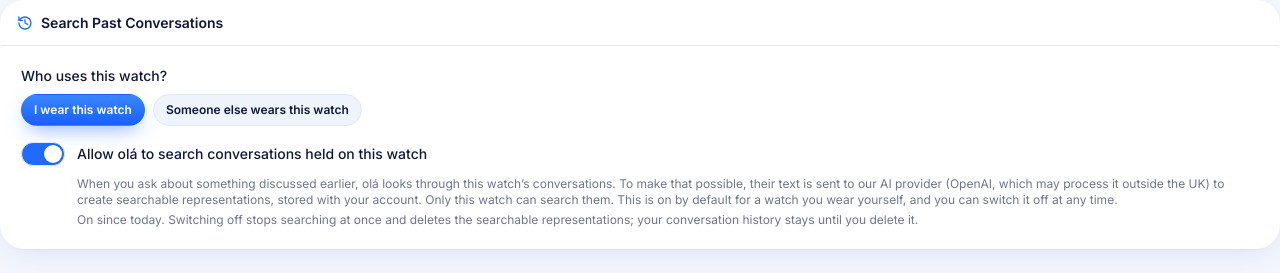
Test: Search Past Conversations (per watch) › switching off says the conversations stay
The width and height of the screenshot is (1280, 273).
Expected: the text "your conversation history stays" shows "stops searching at once", [77,212,918,227]
Click the switch at (43, 154), box [21,142,65,166]
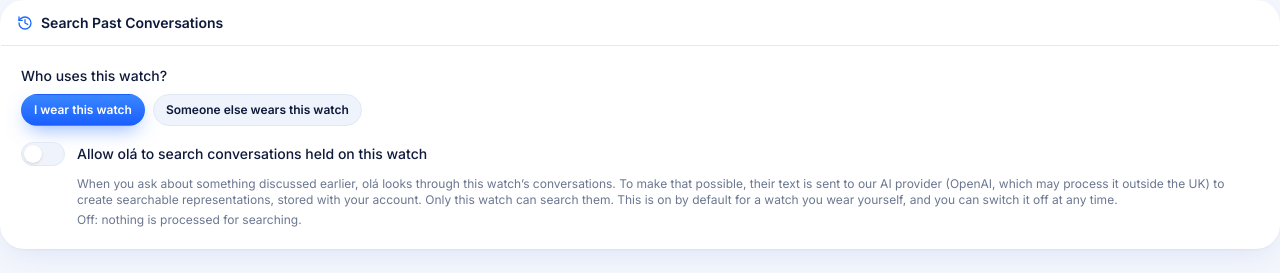
Now the text "Off: nothing is processed for searching." is shown, box [77,212,302,227]
